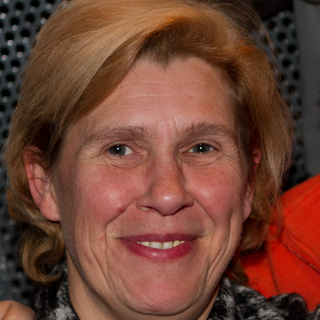eye: (98, 138, 148, 164), (175, 138, 222, 162)
